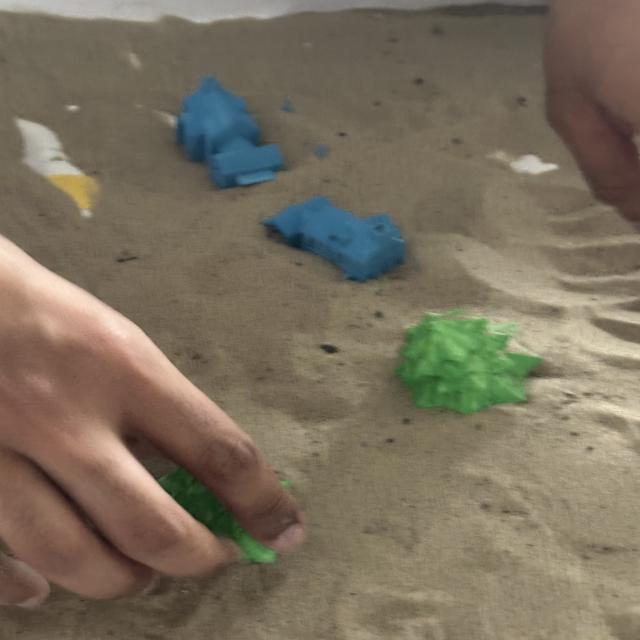house: (175, 78, 333, 191), (260, 192, 410, 283)
tree: (392, 306, 544, 416)
